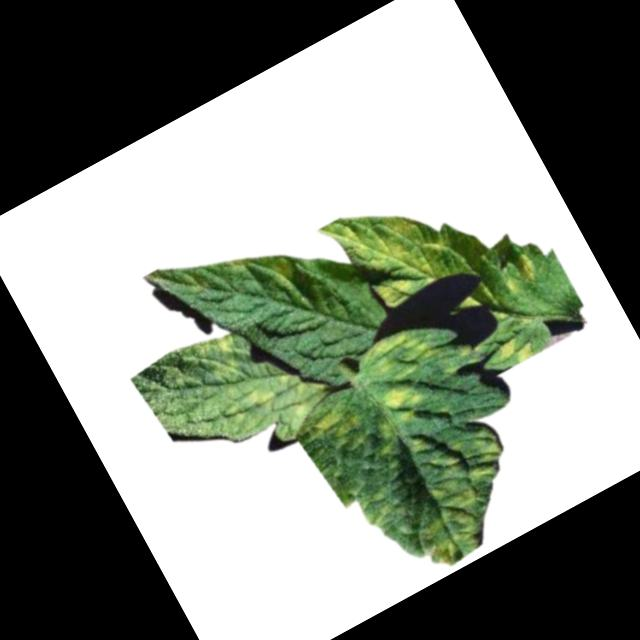Leaf_Mold: (372, 399, 542, 573), (320, 173, 474, 323), (204, 353, 335, 463), (353, 317, 444, 398), (185, 325, 253, 394), (362, 379, 432, 443), (308, 394, 366, 451), (493, 250, 546, 301), (255, 248, 301, 299), (490, 330, 538, 373), (218, 251, 252, 281)
